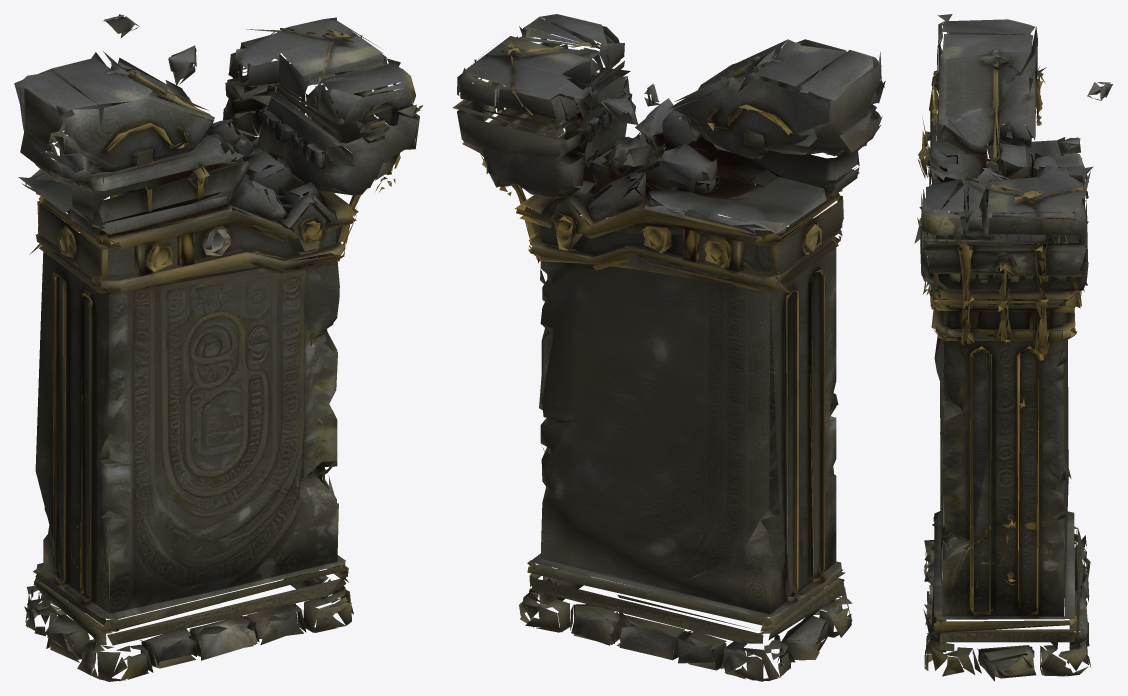
The model's file is ch3_broken_pylon_a_LOD2.glb.
3 views of the same model, side by side, from view 1: azimuth 30°, elevation 25°; view 2: azimuth 150°, elevation 25°; view 3: azimuth 270°, elevation 25° (orthographic). The views are drawn at different scales.
Visible parts, largest first — view 1: tripo_node_d6c99cd5-9faa-415a-9e3d-cf958fd86ac3; view 2: tripo_node_d6c99cd5-9faa-415a-9e3d-cf958fd86ac3; view 3: tripo_node_d6c99cd5-9faa-415a-9e3d-cf958fd86ac3.
Boxes of the visible parts, x1,y1,x2,y2 form: tripo_node_d6c99cd5-9faa-415a-9e3d-cf958fd86ac3: (14, 14, 422, 681); tripo_node_d6c99cd5-9faa-415a-9e3d-cf958fd86ac3: (452, 14, 885, 681); tripo_node_d6c99cd5-9faa-415a-9e3d-cf958fd86ac3: (914, 14, 1112, 681).
Bounding box in the file's own units: 0.6643 × 1.01 × 0.3411.
1 material, 1 textured.
